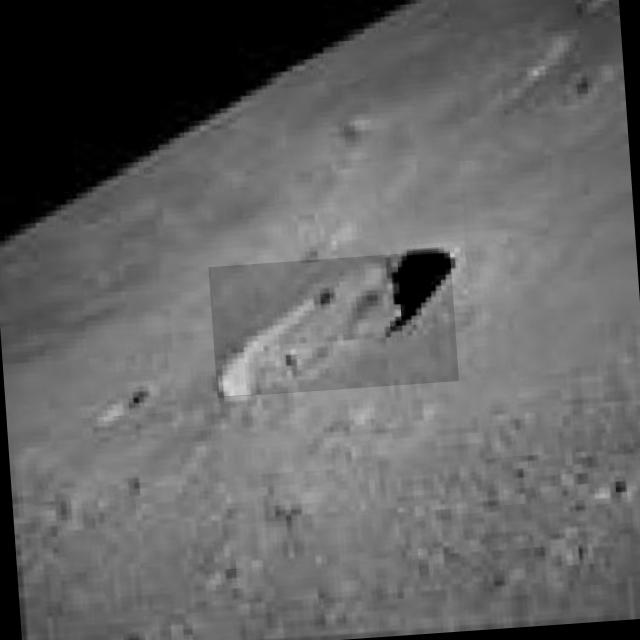crater: (208, 250, 458, 398)
